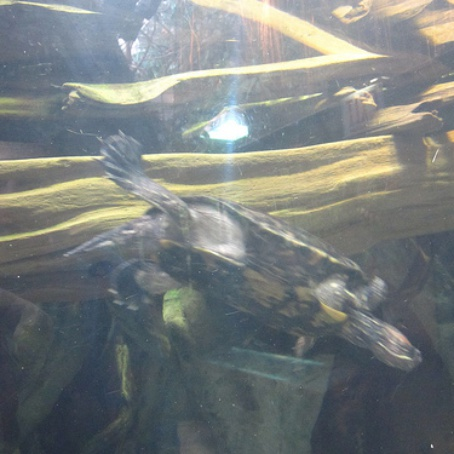animal: (63, 147, 434, 390)
